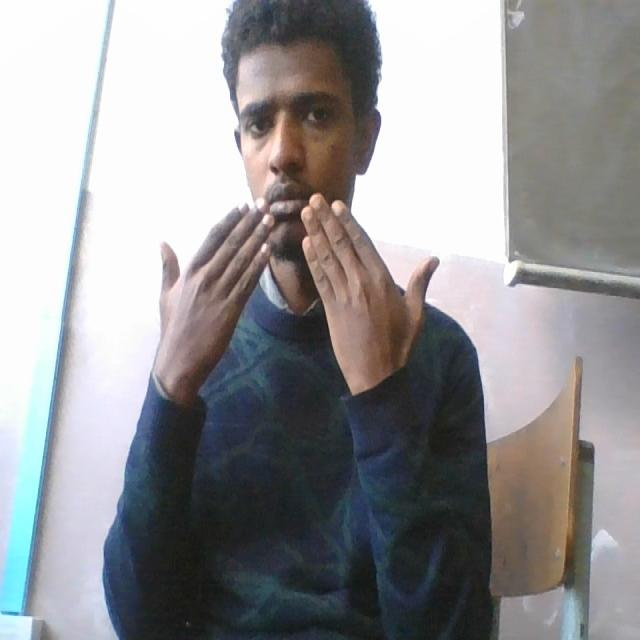ymesgen: (147, 187, 449, 396)
